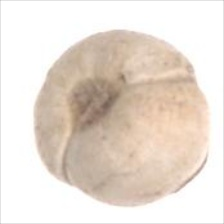L4: (33, 29, 211, 206)
